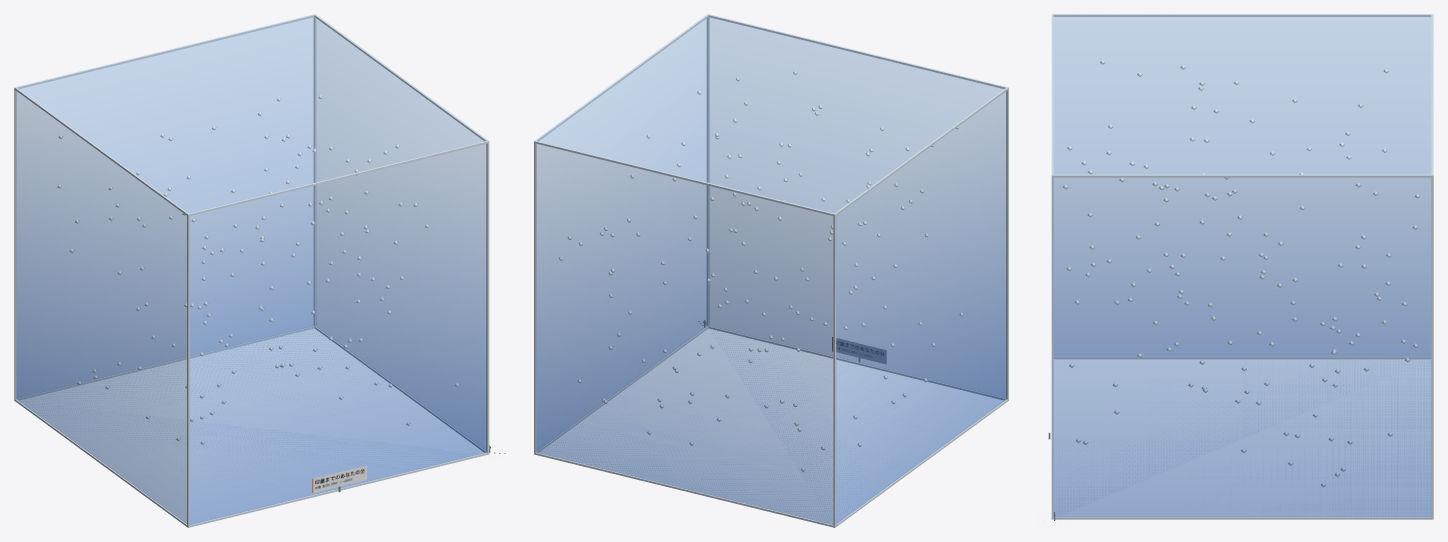
File: cube_life_62.glb
The picture shows the model from 3 angles, left to right: view 1: azimuth 30°, elevation 25°; view 2: azimuth 150°, elevation 25°; view 3: azimuth 270°, elevation 25°; orthographic projection. The views are drawn at different scales.
Parts seen in each view (by area): view 1: co2, edge, dots, label; view 2: co2, edge, dots, label; view 3: co2, edge, dots.
Part boxes in pixels (x1,y1,x2,y2): co2: (16,15,486,524); edge: (14,14,489,527); dots: (57,95,459,444); label: (312,465,366,492); co2: (536,15,1006,524); edge: (534,14,1008,527); dots: (559,70,963,471); label: (832,337,886,363); co2: (1053,14,1431,516); edge: (1051,14,1433,519); dots: (1063,60,1420,487).
Size of the model in its own units: 69.49 by 65.73 by 68.59.
Materials: 8 (3 with a texture image).
